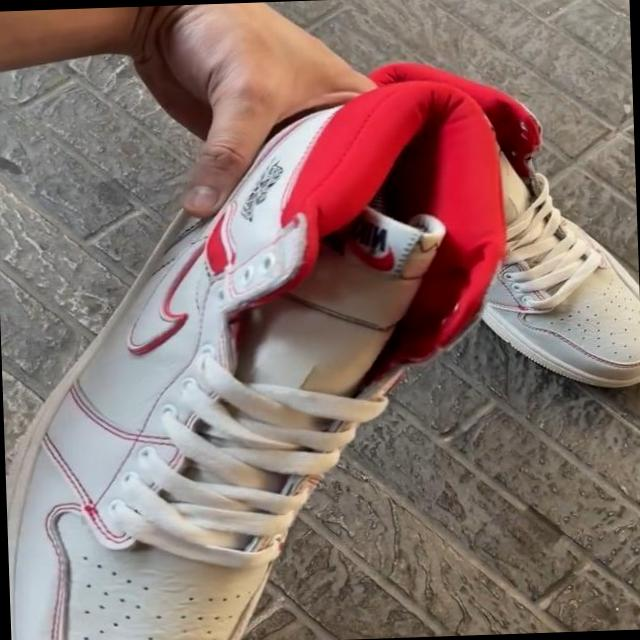nike_fake_jordan: (0, 74, 522, 640), (442, 69, 640, 399)
